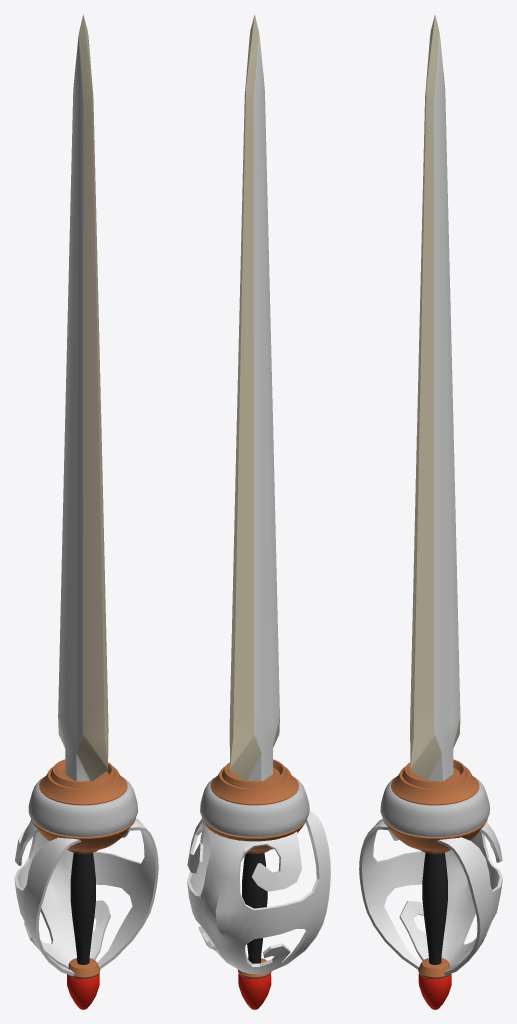
Rendered from Slice_Sword.fbx.
3 renders of one model, left to right at view 1: azimuth 30°, elevation 25°; view 2: azimuth 150°, elevation 25°; view 3: azimuth 330°, elevation 25°, orthographic.
Visible parts, largest first — view 1: Cylinder.004; view 2: Cylinder.004; view 3: Cylinder.004.
Boxes of the visible parts, x1,y1,x2,y2 form: Cylinder.004: [14, 14, 158, 1009]; Cylinder.004: [187, 14, 330, 1009]; Cylinder.004: [359, 14, 502, 1009].
Bounding box in the file's own units: 20.03 × 158 × 19.32.
